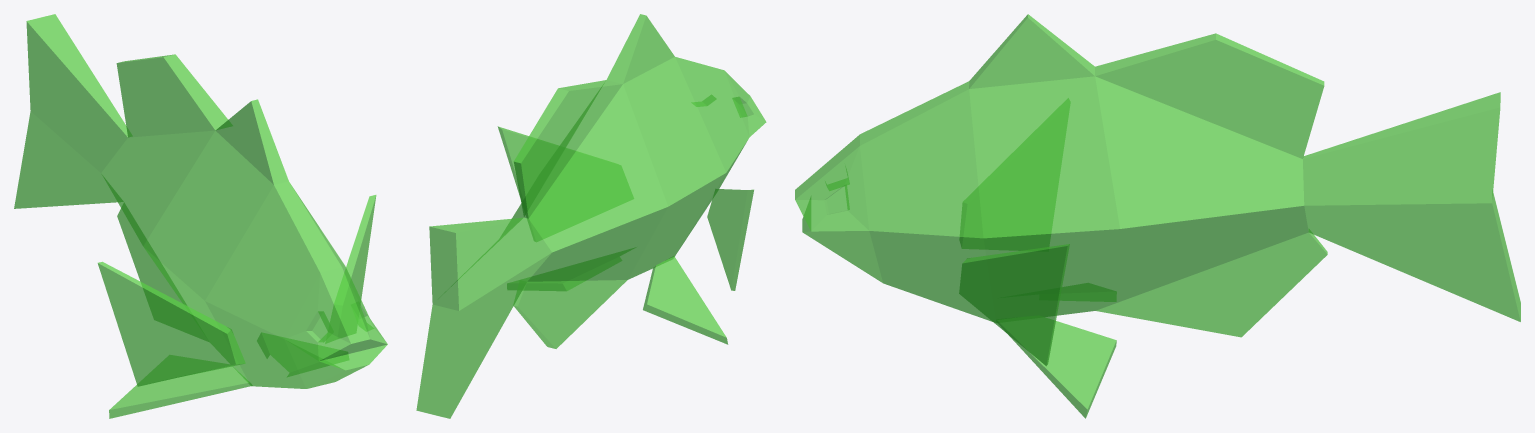
The model's file is scifi-scifi-hologram-fish.glb.
The picture shows the model from 3 angles, left to right: view 1: azimuth 30°, elevation 25°; view 2: azimuth 150°, elevation 25°; view 3: azimuth 270°, elevation 25°; orthographic projection. The views are drawn at different scales.
Parts seen in each view (by area): view 1: scifi-hologram-fish; view 2: scifi-hologram-fish; view 3: scifi-hologram-fish.
Part boxes in pixels (x1,y1,x2,y2): scifi-hologram-fish: (14,14,387,418); scifi-hologram-fish: (416,14,766,418); scifi-hologram-fish: (795,14,1520,418).
Bounding box in the file's own units: 2.36 × 2.51 × 4.87.
